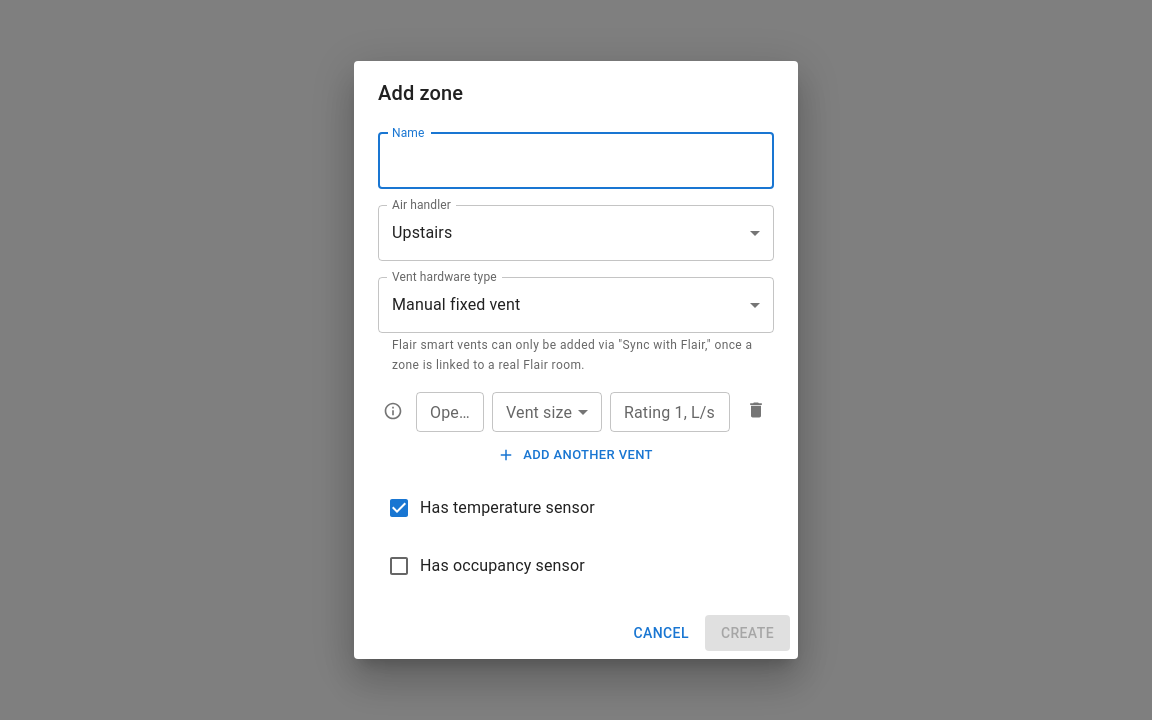
Test case: AddZoneDialog › shows the server's error message on failure
Type "Office" into the field labelled "Name" at (576, 161), box [378, 133, 774, 189]
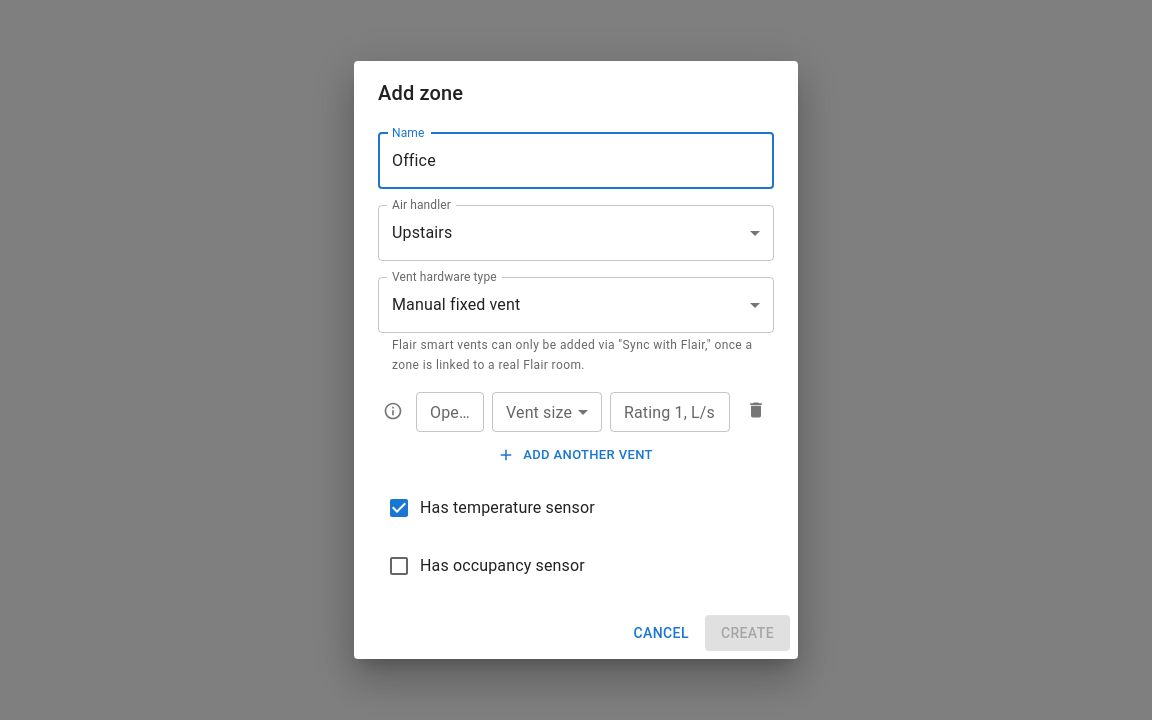
Type "75" into the number field labelled "Open Position 1" at (450, 412), box [416, 392, 484, 432]
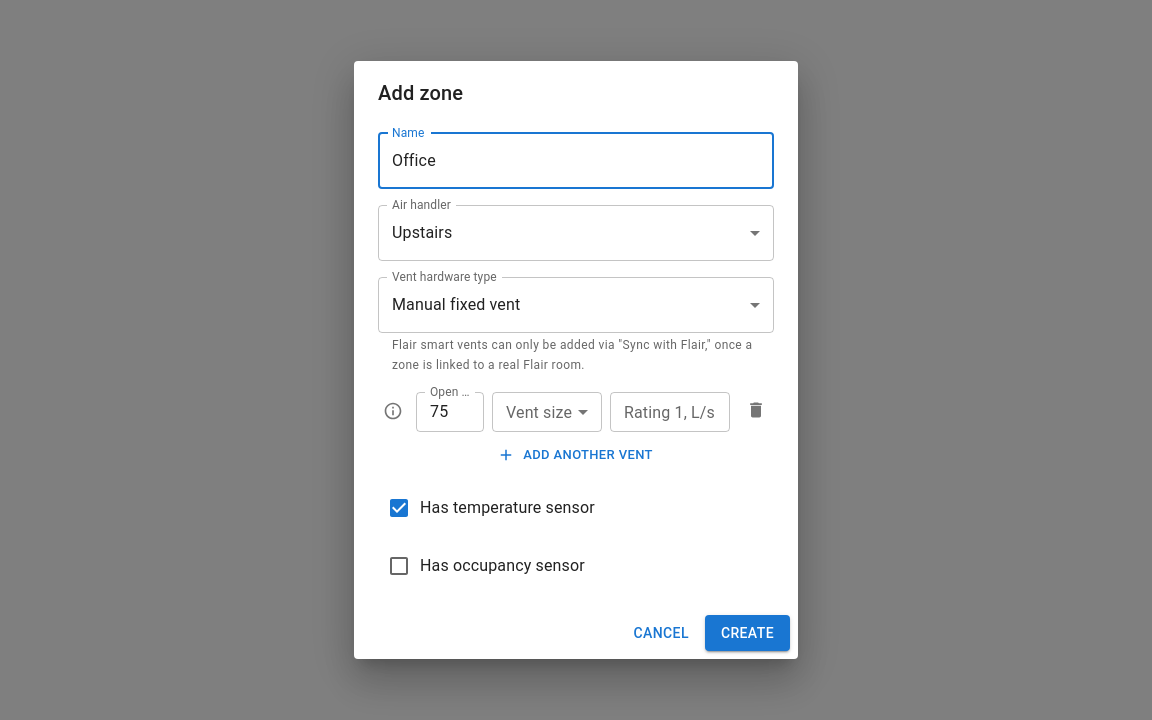
Click the button "Create" at (747, 633), box [705, 614, 790, 651]
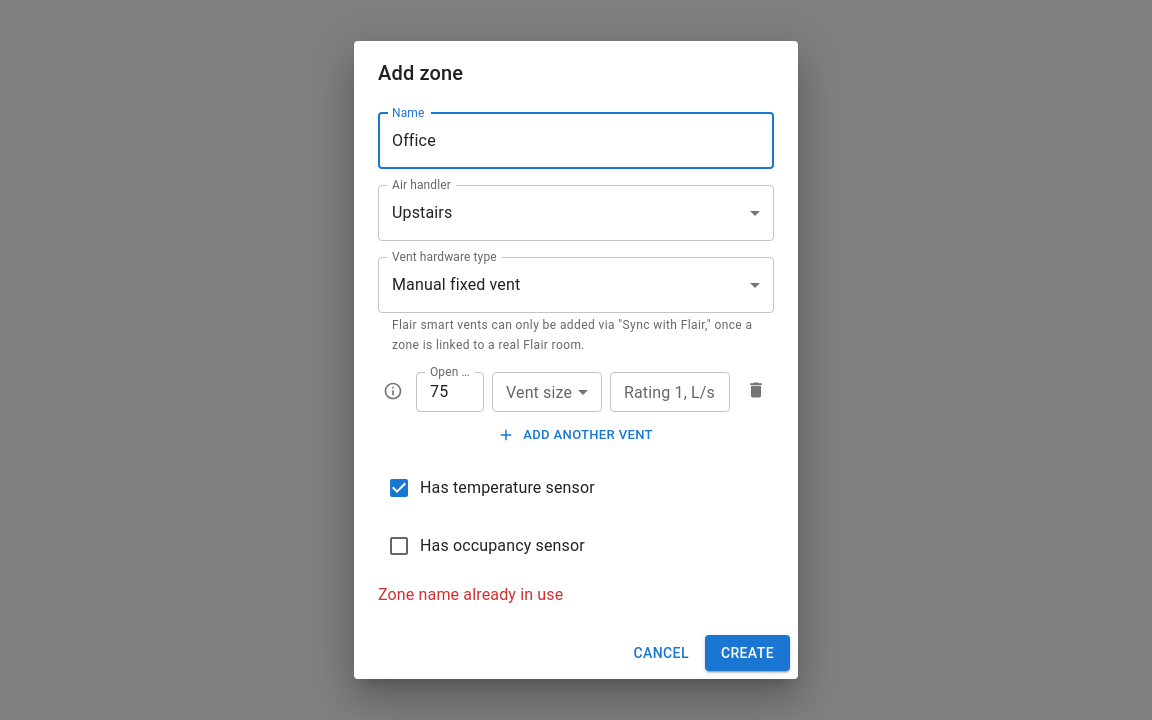
Check: the text "Zone name already in use" is shown, box [378, 584, 563, 604]
